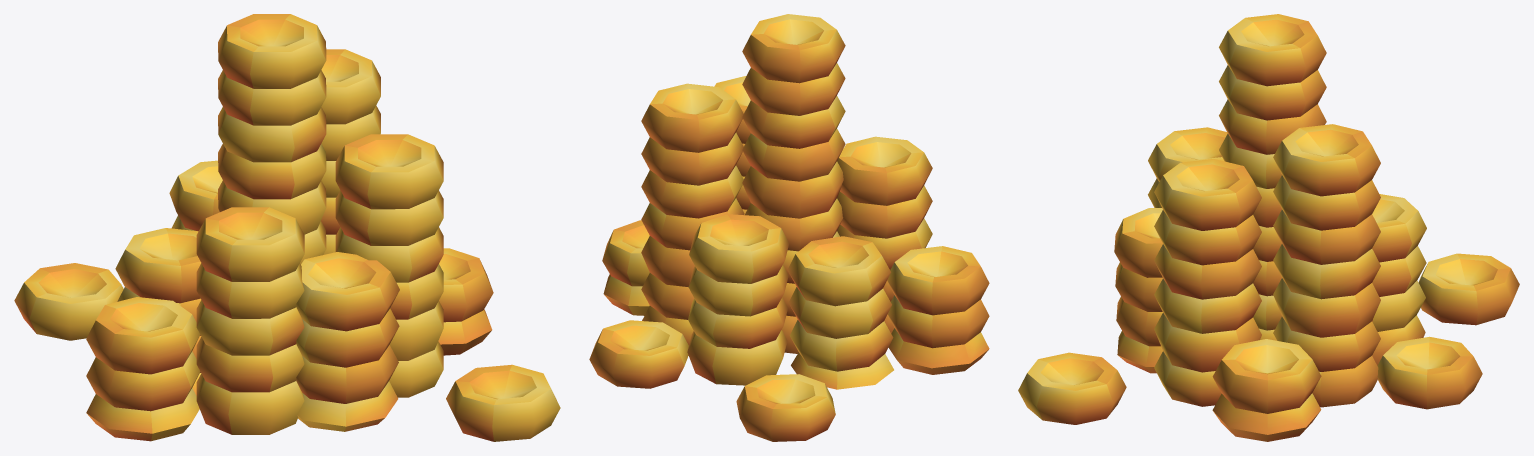
File: d_kaykit_pieces_gros_tas.glb
The picture shows the model from 3 angles, left to right: view 1: azimuth 30°, elevation 25°; view 2: azimuth 150°, elevation 25°; view 3: azimuth 270°, elevation 25°; orthographic projection. The views are drawn at different scales.
Visible parts, largest first — view 1: d_kaykit_pieces_gros_tas; view 2: d_kaykit_pieces_gros_tas; view 3: d_kaykit_pieces_gros_tas.
Part boxes in pixels (x1,y1,x2,y2): d_kaykit_pieces_gros_tas: (14, 14, 560, 441); d_kaykit_pieces_gros_tas: (589, 14, 989, 441); d_kaykit_pieces_gros_tas: (1018, 14, 1519, 441).
Bounding box in the file's own units: 1.44 × 1.16 × 1.66.
Materials: 1 (1 with a texture image).
